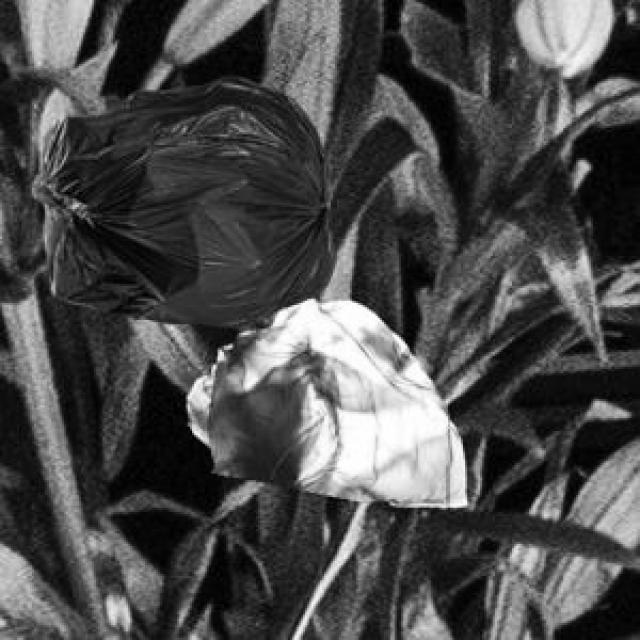miscellaneous trash: (28, 73, 333, 322)
